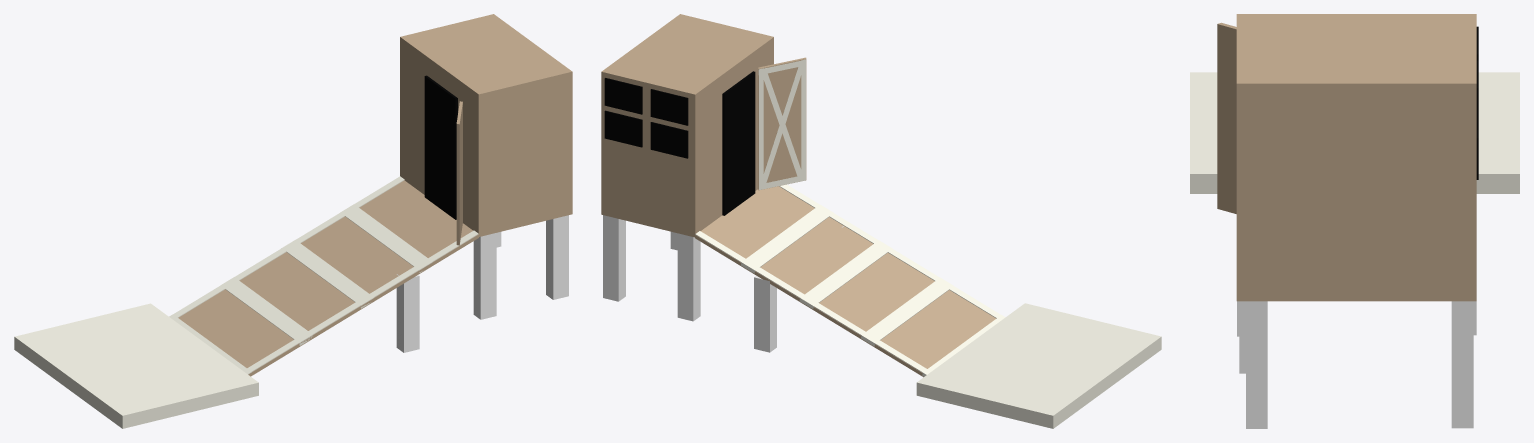
File: Coop.fbx
3 views of the same model, side by side, from view 1: azimuth 30°, elevation 25°; view 2: azimuth 150°, elevation 25°; view 3: azimuth 270°, elevation 25° (orthographic). The views are drawn at different scales.
Parts seen in each view (by area): view 1: Coop; view 2: Coop; view 3: Coop.
Part boxes in pixels (x1,y1,x2,y2): Coop: (14, 14, 572, 428); Coop: (601, 14, 1161, 428); Coop: (1190, 14, 1519, 428).
Size of the model in its own units: 368 by 182 by 148.
